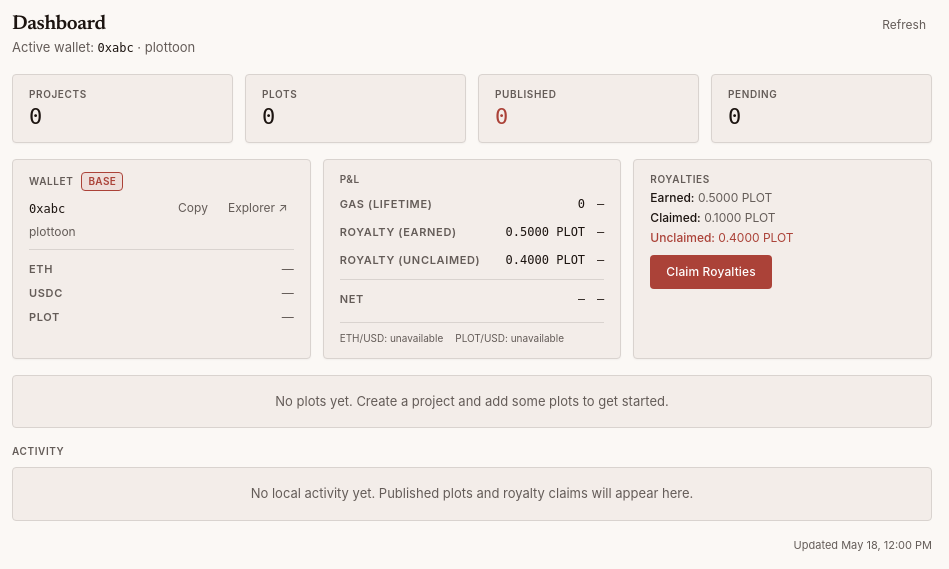
Test: Dashboard › shows confirmation dialog when claim button clicked
Click the button "Claim Royalties". click: (711, 272)
box: [650,255,772,289]
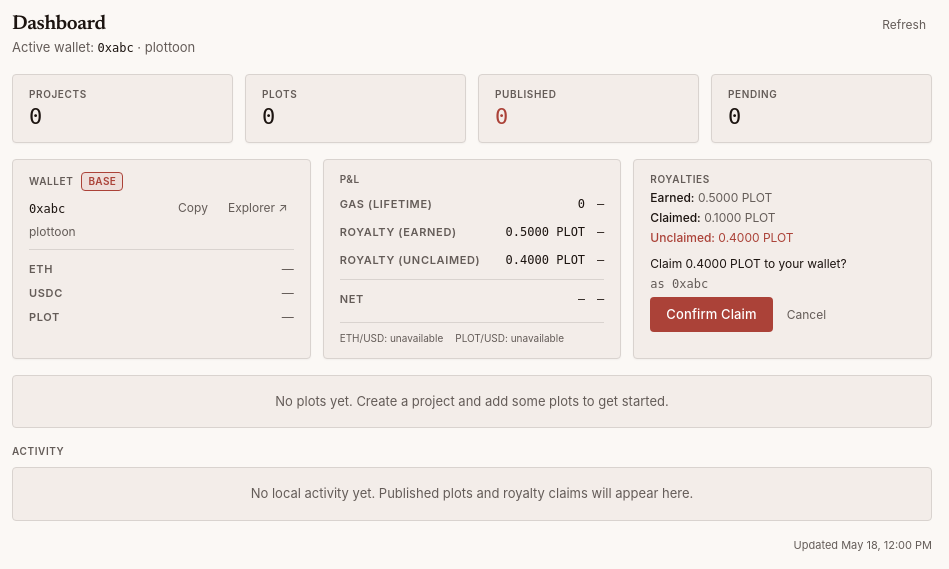
expect the button "Confirm Claim" is shown: met, box [650,297,773,332]
expect the button "Cancel" is shown: met, box [781,297,832,332]
